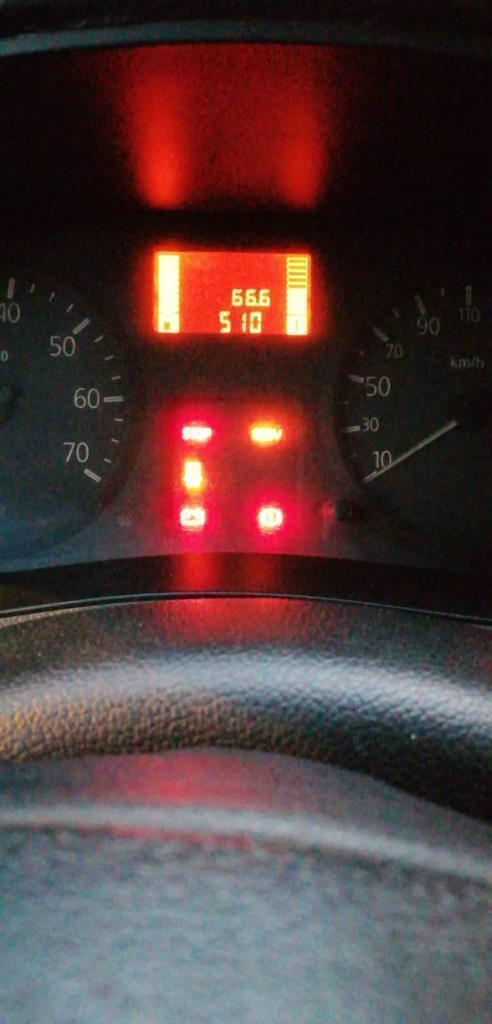,: (255, 302, 260, 307)
0: (248, 311, 261, 334)
1: (240, 311, 246, 333)
5: (218, 310, 231, 333)
6: (230, 288, 243, 306), (244, 288, 256, 306), (258, 289, 270, 306)
odometer: (150, 249, 313, 338)
